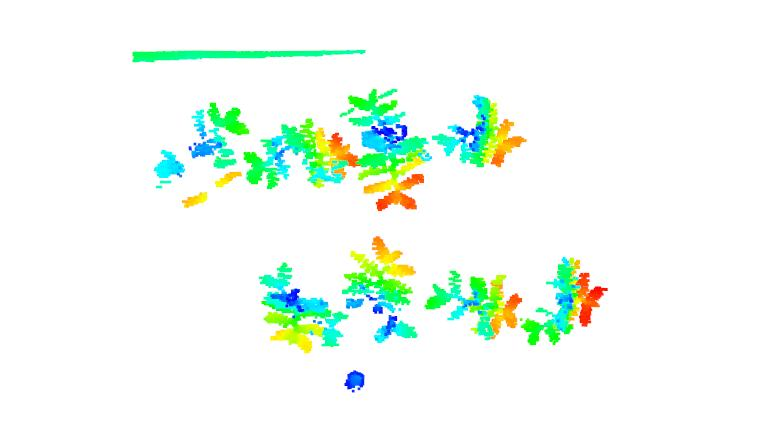chickpea: (344, 81, 431, 212), (147, 101, 250, 209), (341, 236, 424, 344), (257, 256, 343, 351), (243, 118, 353, 192), (429, 89, 528, 170), (525, 253, 610, 345), (426, 263, 523, 340)
